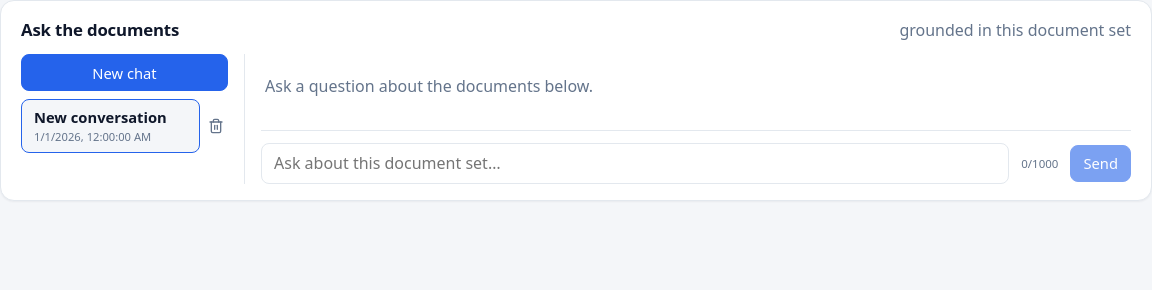
Scenario: ChatPanel › sends a message and reloads the conversation
Expected: the text "Ask a question about the documents below." is shown, [265, 75, 593, 97]
Type "Any tips?" into the field with placeholder "Ask about this document set…" at (635,163), box [261, 143, 1009, 184]
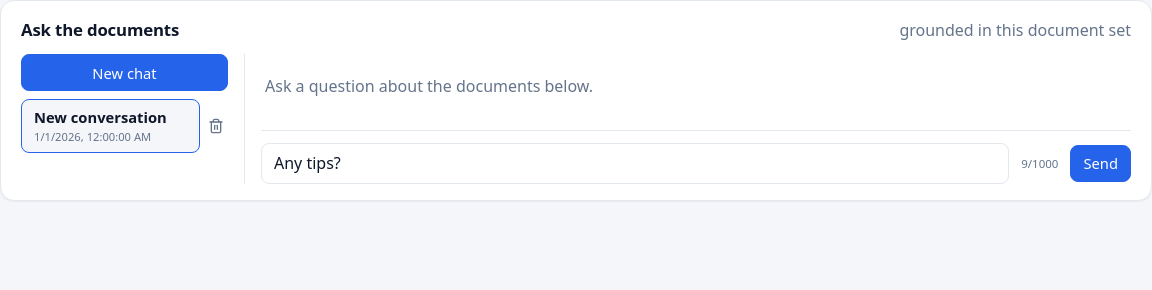
Click the button "Send" at (1101,163), box [1070, 145, 1131, 182]
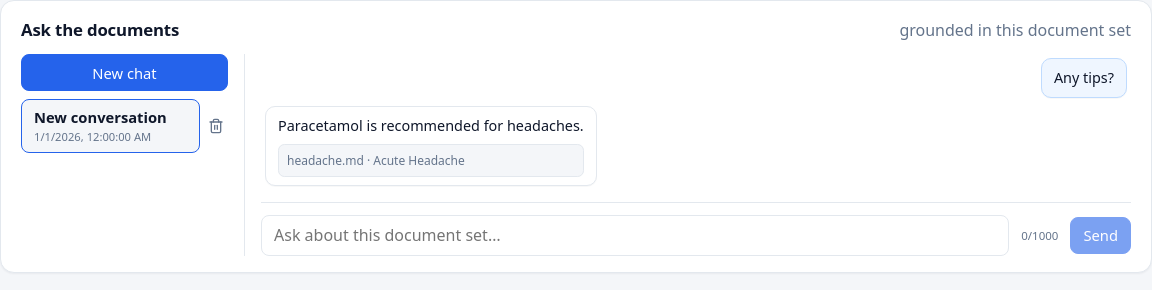
Expected: the text "Paracetamol is recommended for headaches." is shown, [278, 115, 584, 136]
